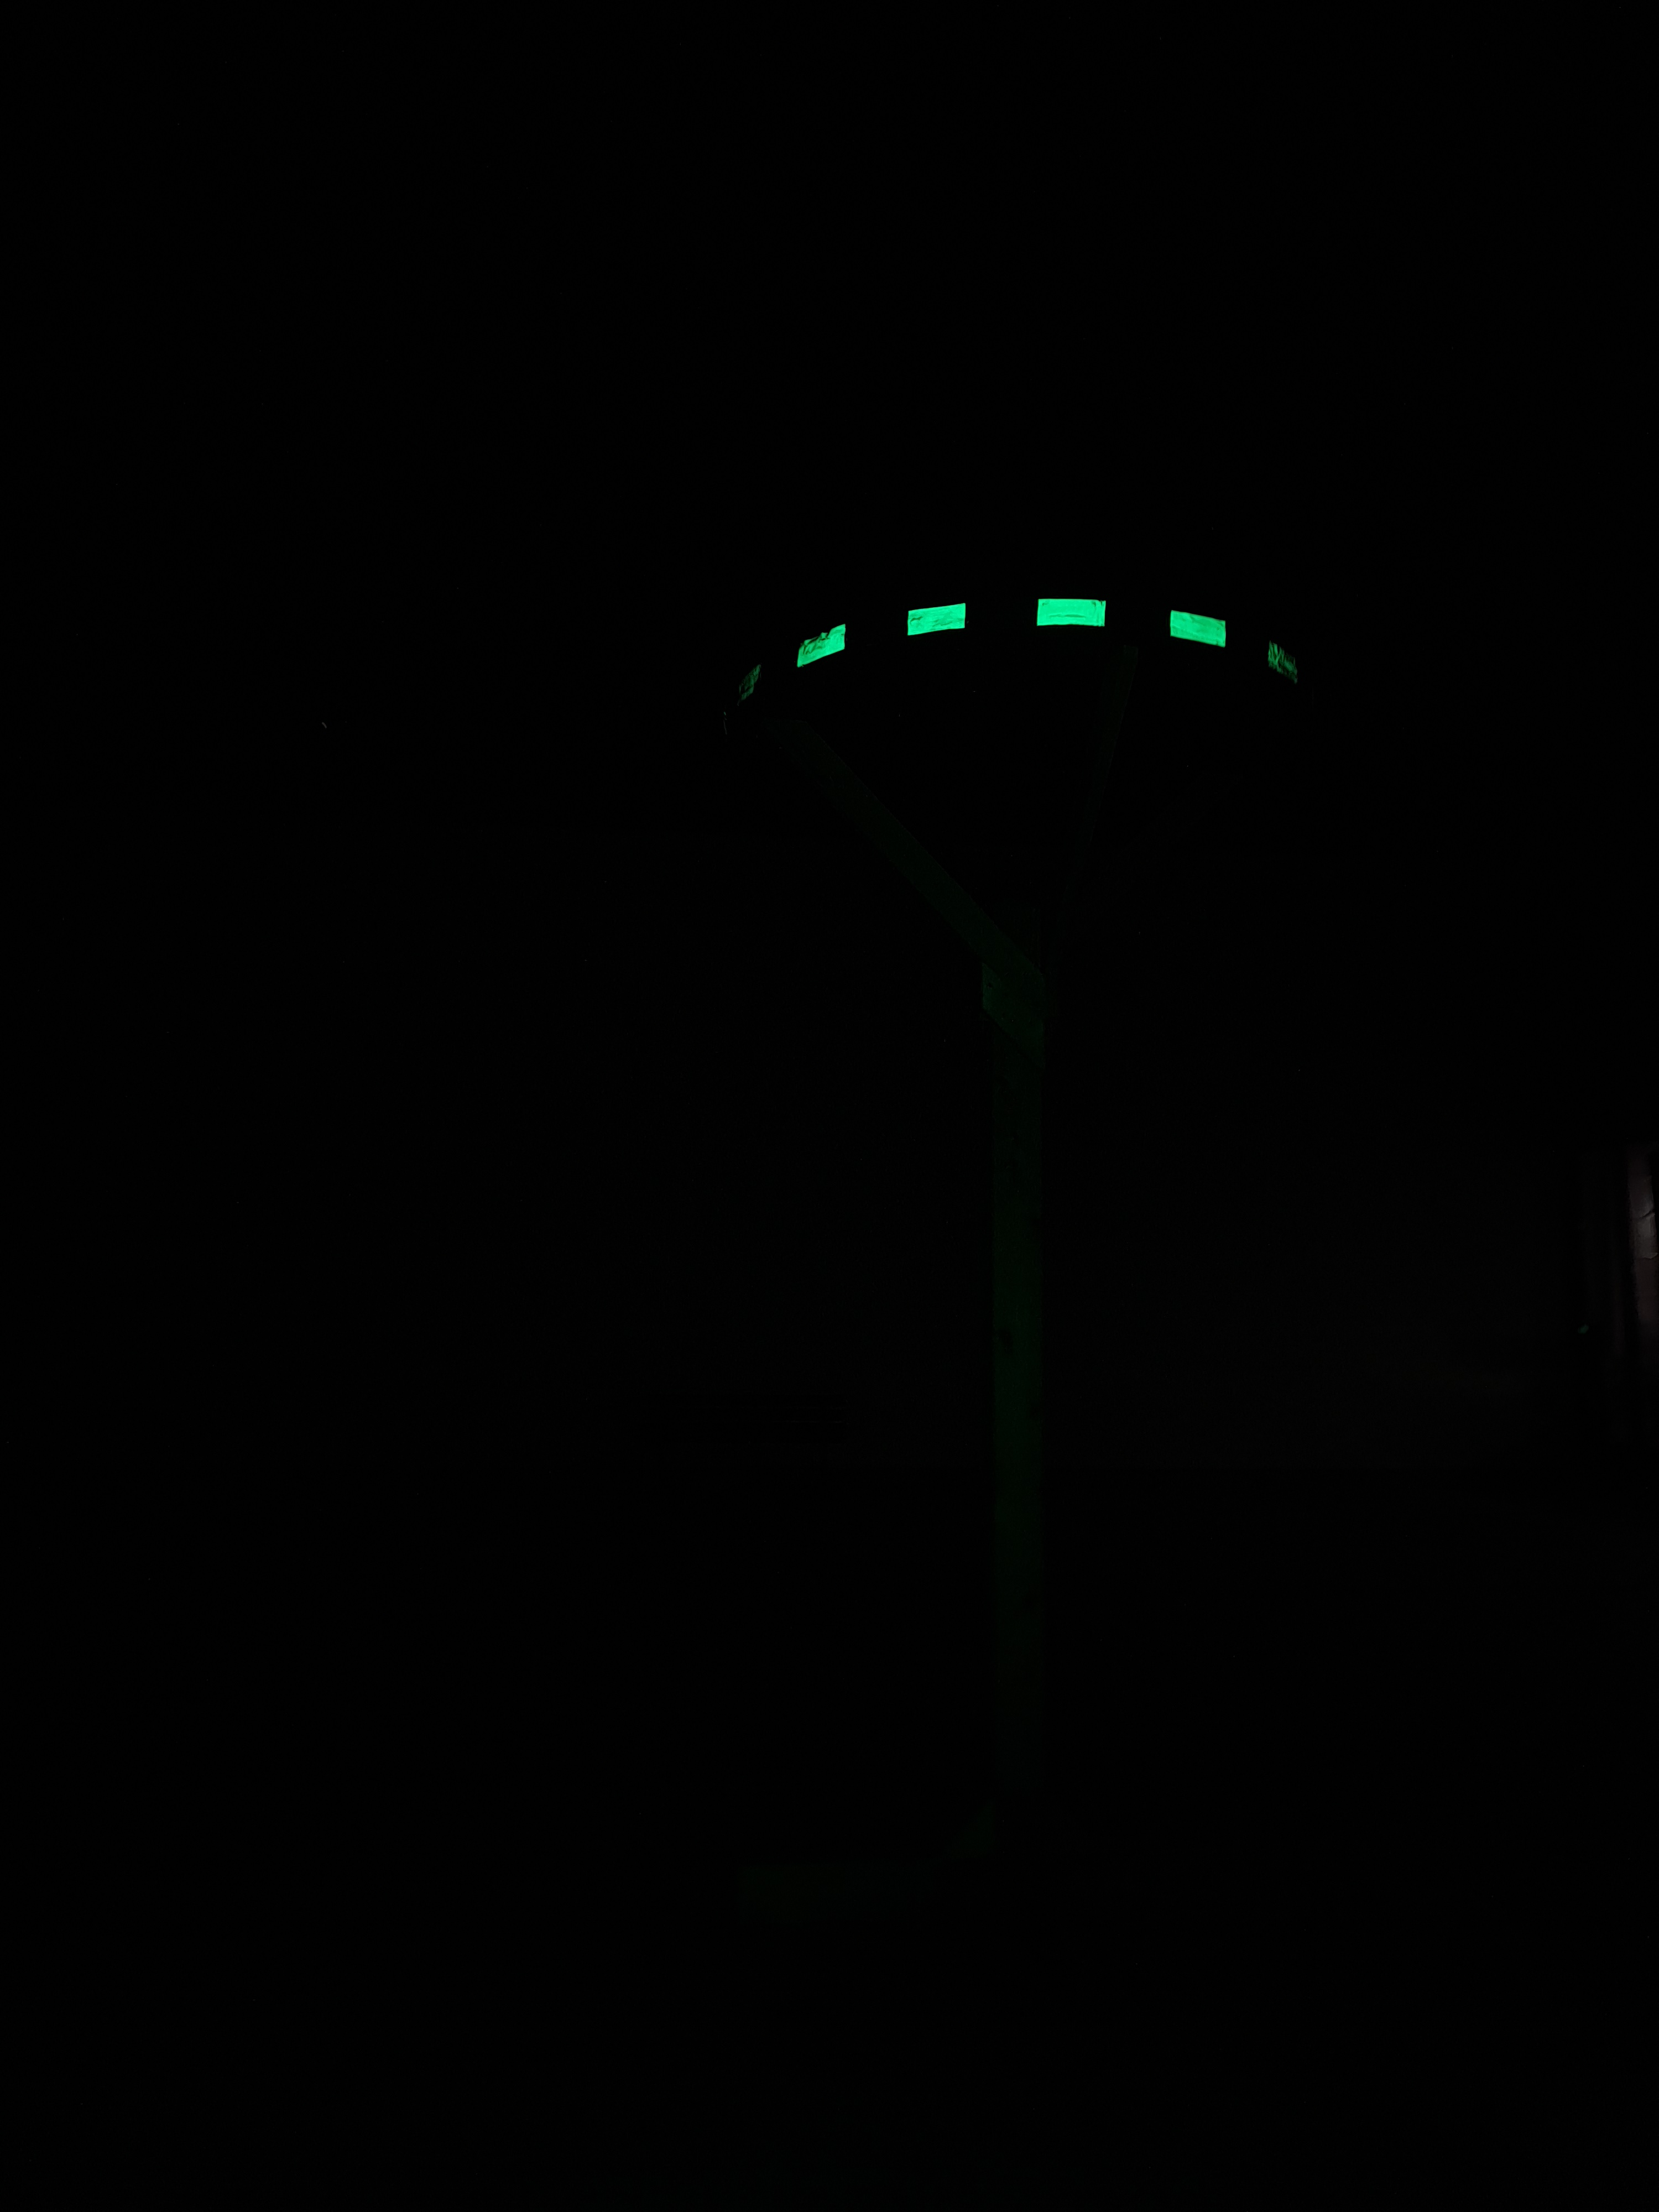hoop: (789, 590, 1305, 688)
